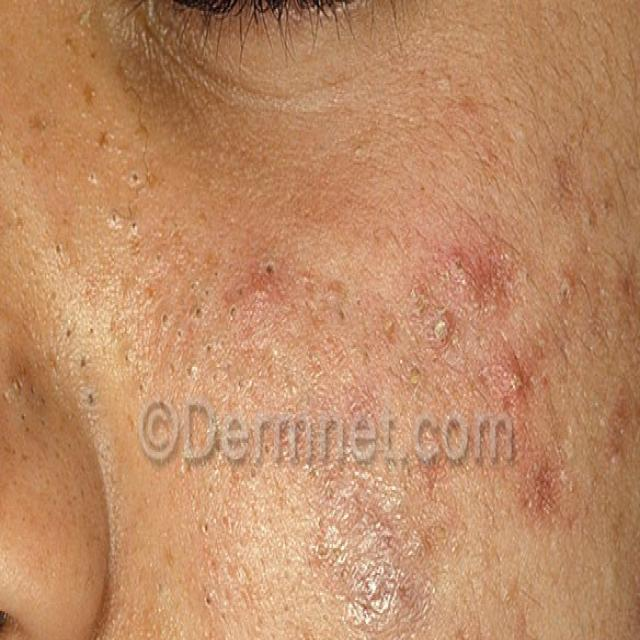Acne: (164, 245, 347, 443), (311, 464, 421, 640), (501, 340, 578, 558), (394, 215, 487, 392), (605, 365, 640, 463)
